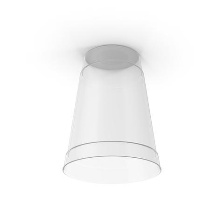glass: (51, 36, 165, 193)
